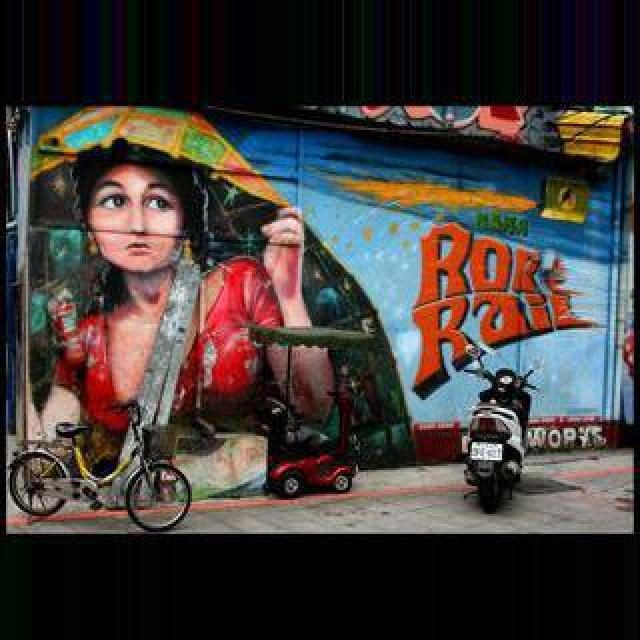Bus-Bike: (266, 446, 356, 498)
Emergency Vehicles-Bike: (462, 372, 534, 514)
MC-Bike: (34, 114, 312, 524), (466, 364, 536, 462)
Person: (8, 398, 194, 530)
